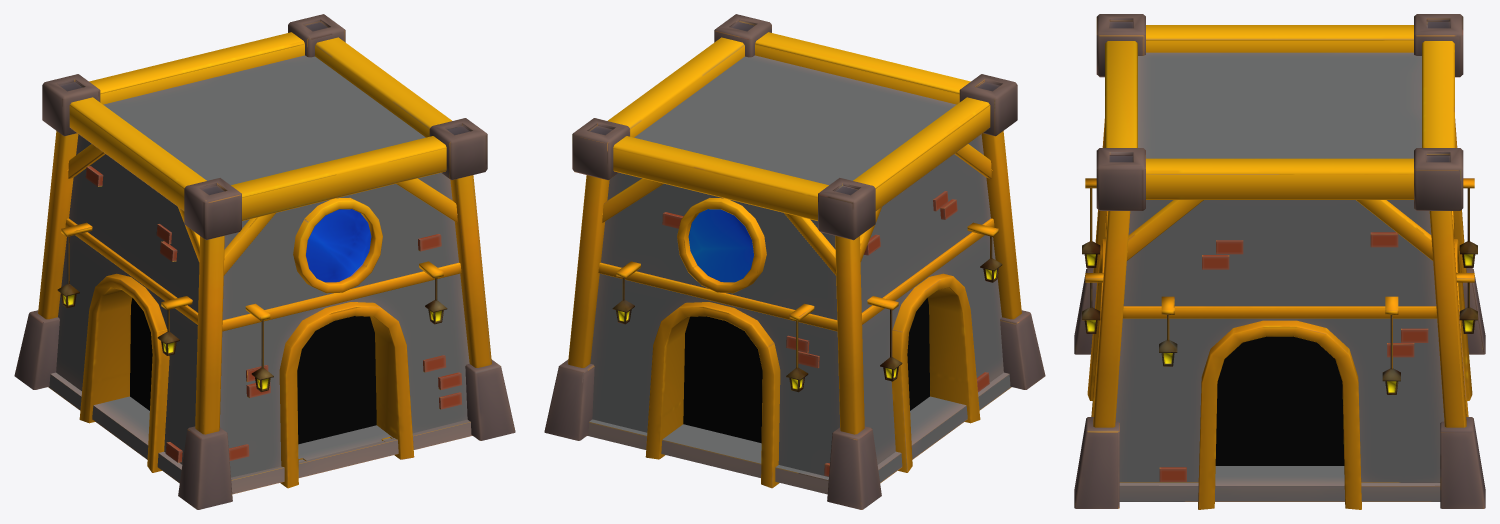
3 views of the same model, side by side, from view 1: azimuth 30°, elevation 25°; view 2: azimuth 150°, elevation 25°; view 3: azimuth 270°, elevation 25° (orthographic). The views are drawn at different scales.
Parts seen in each view (by area): view 1: Cube.011_Baked; view 2: Cube.011_Baked; view 3: Cube.011_Baked.
Boxes of the visible parts, left/top/right/bottom form: Cube.011_Baked: left=14, top=14, right=515, bottom=509; Cube.011_Baked: left=544, top=14, right=1045, bottom=509; Cube.011_Baked: left=1074, top=14, right=1485, bottom=509.
Bounding box in the file's own units: 300 × 272 × 300.
1 material, 1 textured.
